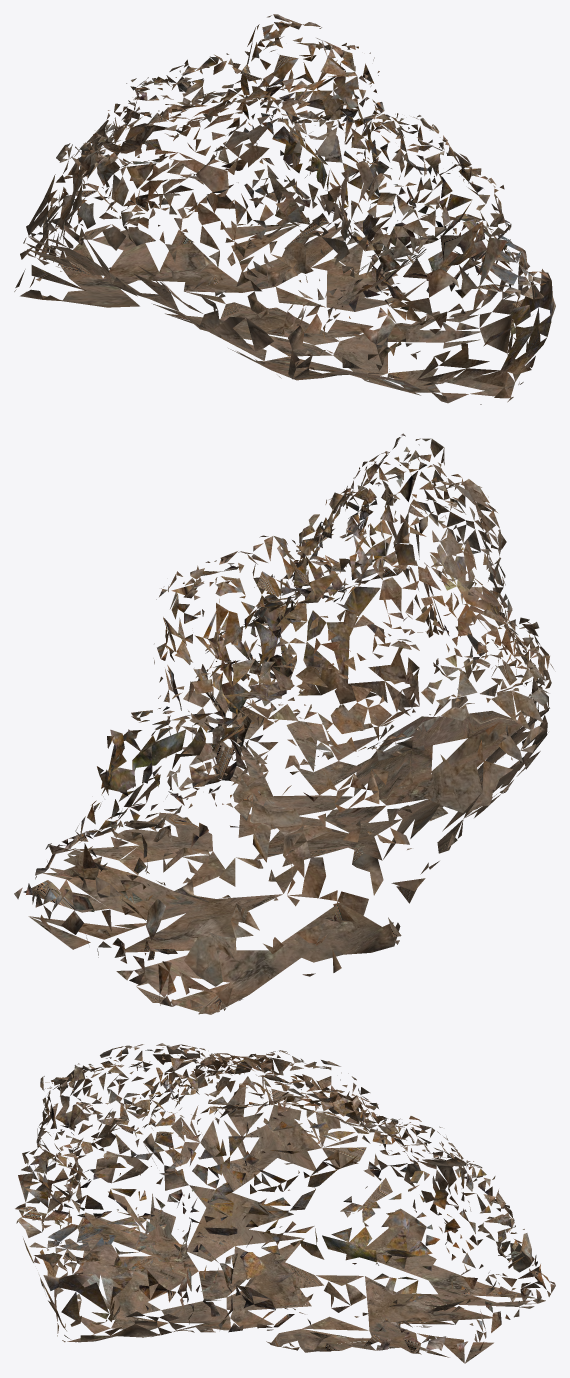
File: boulder_01.gltf
The picture shows the model from 3 angles, top to bottom: view 1: azimuth 30°, elevation 25°; view 2: azimuth 150°, elevation 25°; view 3: azimuth 270°, elevation 25°; orthographic projection. The views are drawn at different scales.
Visible parts, largest first — view 1: boulder_01; view 2: boulder_01; view 3: boulder_01.
Part boxes in pixels (box(x1,y1,x2,y2)): boulder_01: box(14, 14, 555, 404); boulder_01: box(14, 433, 553, 1014); boulder_01: box(15, 1043, 555, 1363).
Bounding box in the file's own units: 1.26 × 0.9926 × 1.83.
Materials: 1 (1 with a texture image).
